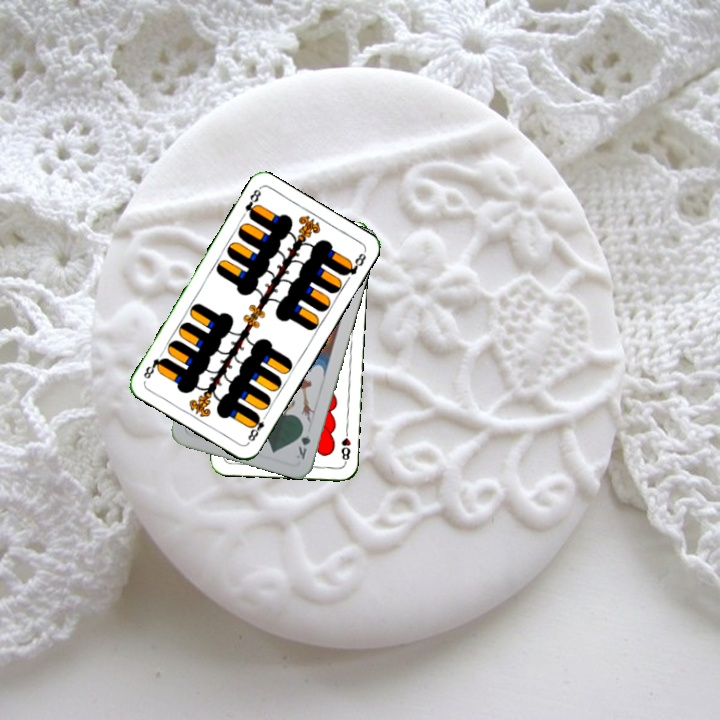E8: (244, 409, 270, 446), (241, 185, 264, 221)
GK: (292, 422, 313, 462)
H8: (337, 425, 353, 465)
